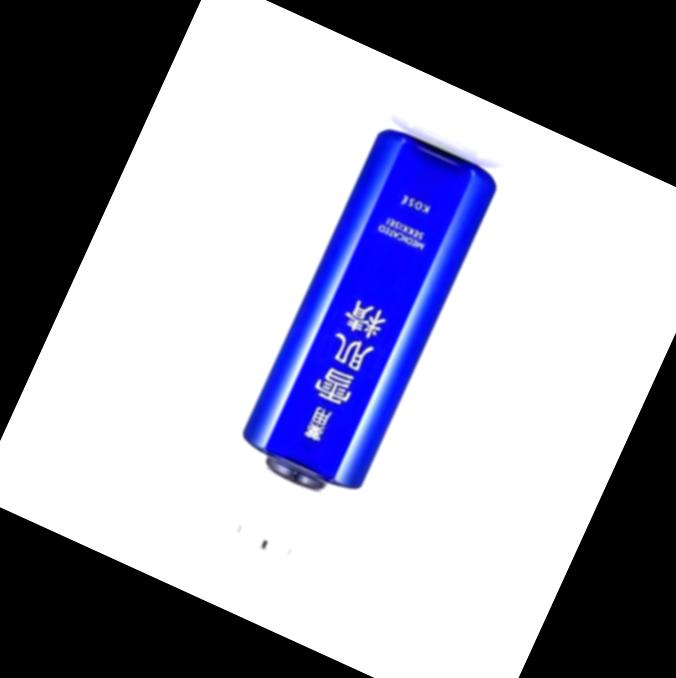cosmetic: (195, 118, 504, 573)
